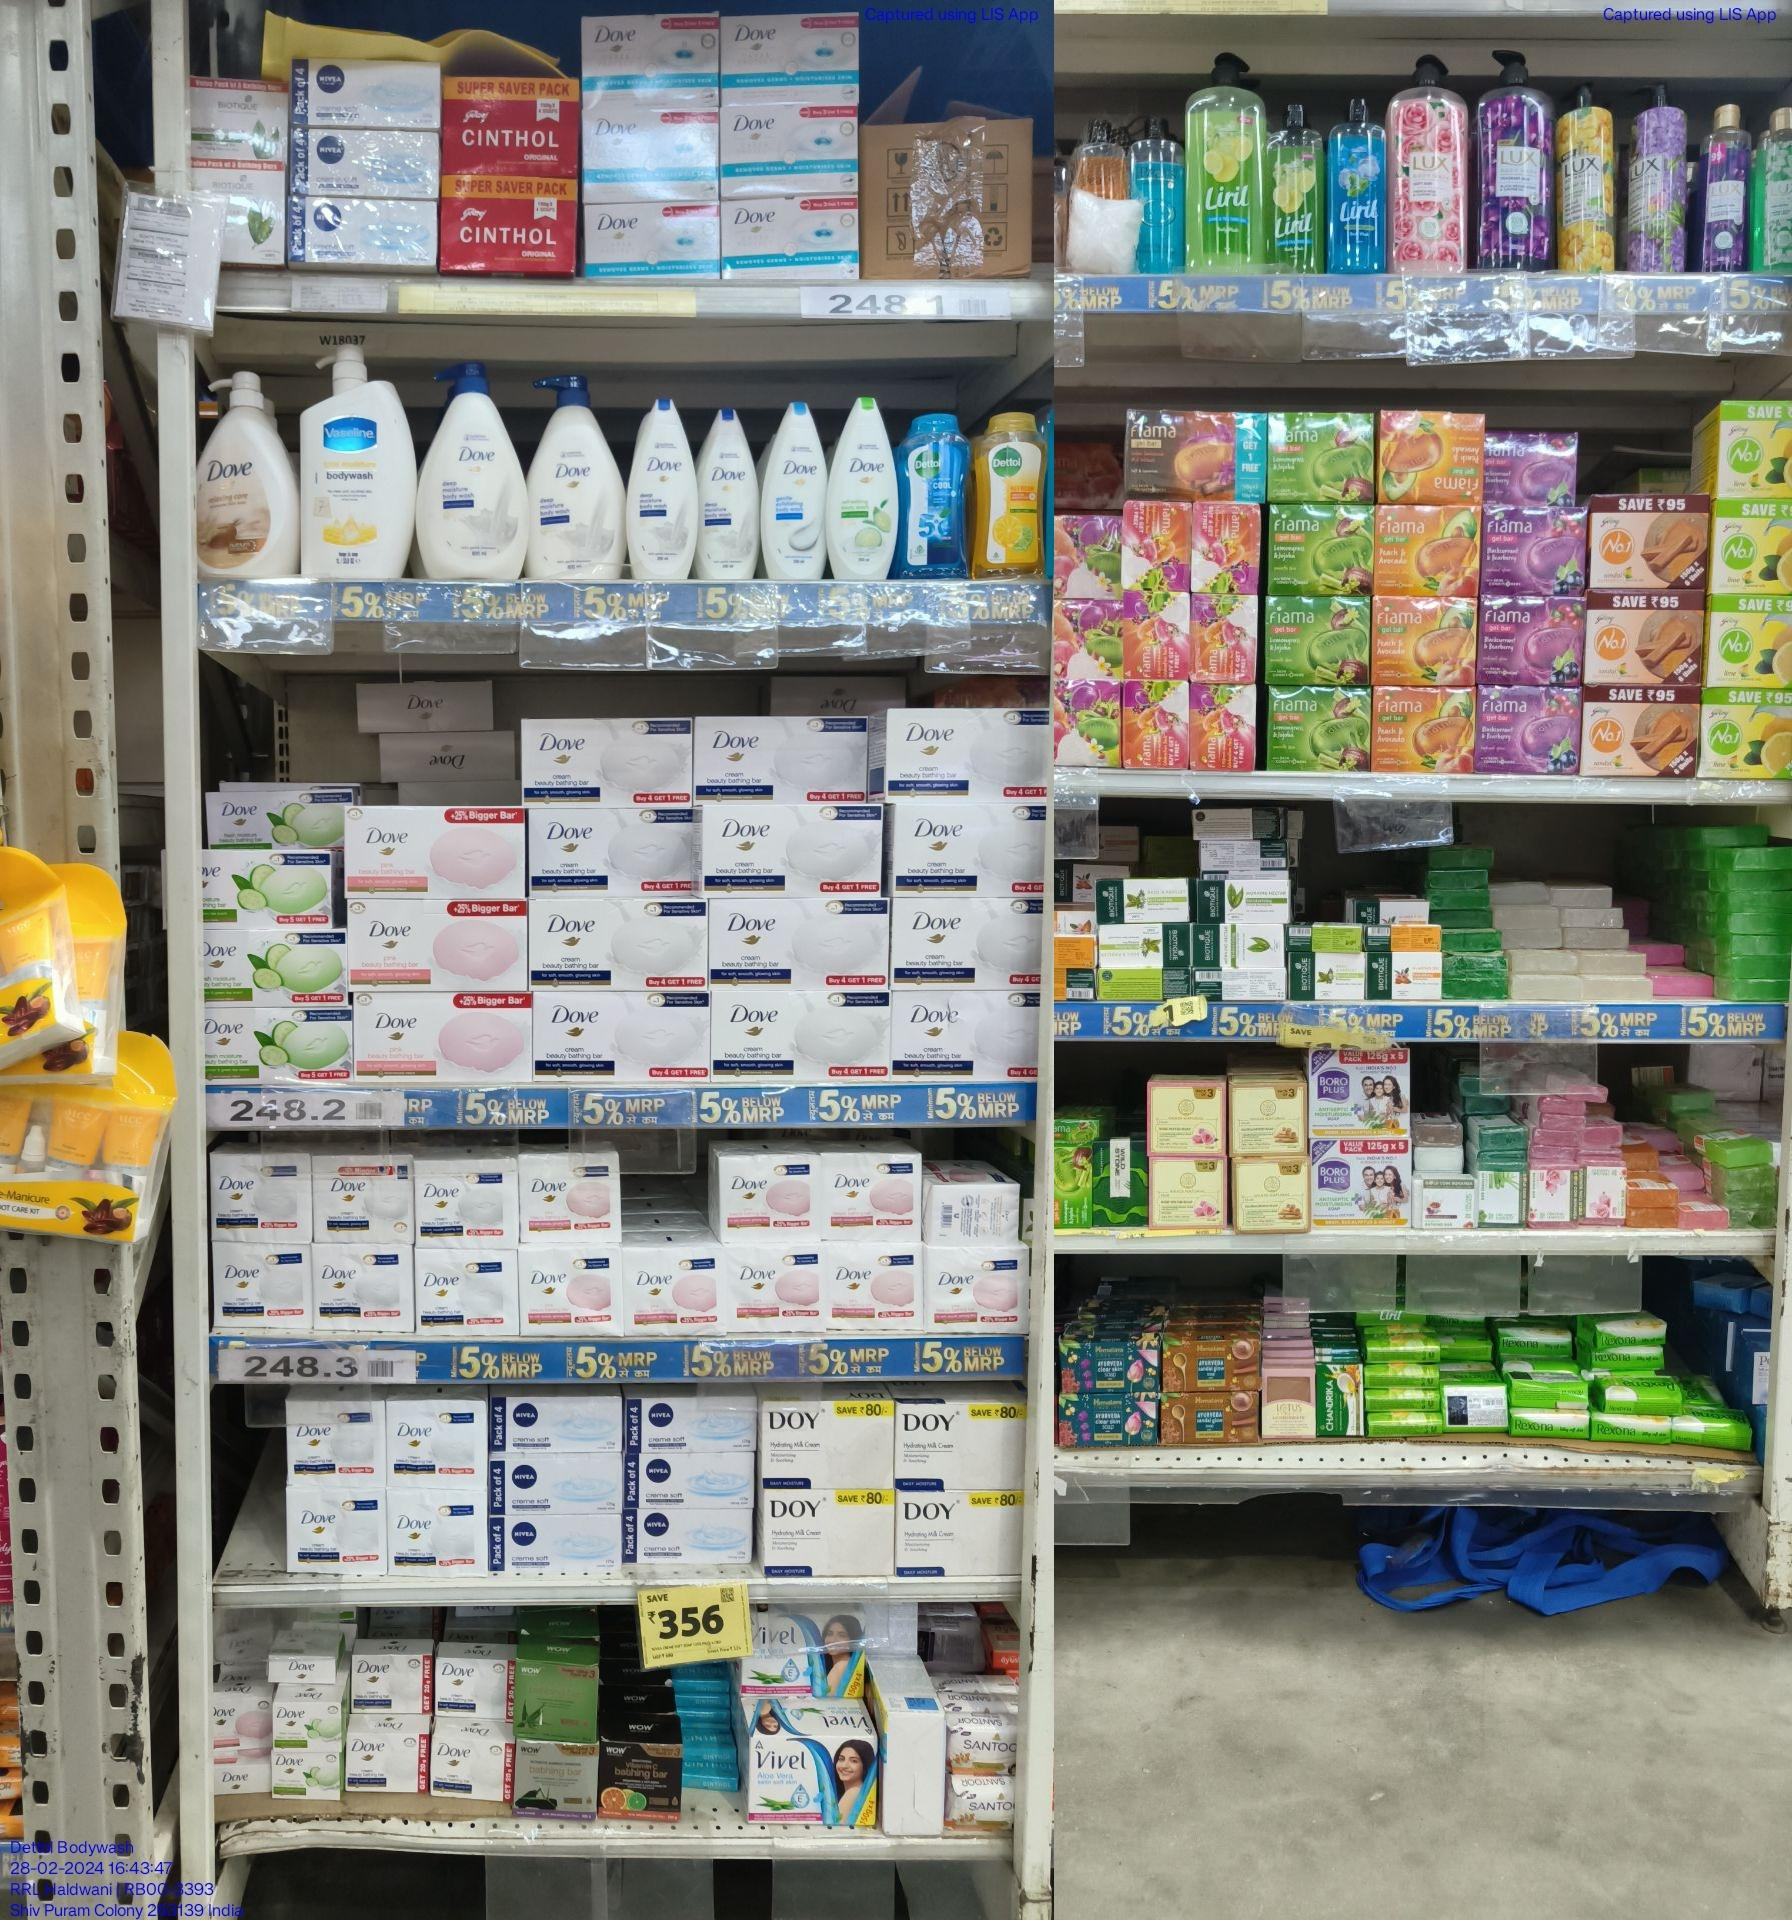Dettol_Bodywash_Cool: (899, 413, 967, 581)
Dettol_Bodywash_Refresh: (977, 404, 1044, 581)
Dove_Deep_Moisture_Body_Wash_250ML: (632, 397, 696, 584), (699, 404, 756, 600)
Dove_Gentle_Exfoliating_Body_Wash_250ML: (765, 403, 829, 578)
Dove_Refreshing_Body_Wash_250ML: (832, 397, 898, 586)
Liril_Cooling_Mint_Body_Wash_250ML: (1327, 94, 1388, 276)
Liril_Lime_and_Tea_Tree_Oil_Body_Wash_250ML: (1267, 104, 1322, 275)
Lux_Black_Orchid_Scent_and_Juniper_Oil_Body_Wash_245ML: (1703, 99, 1748, 273)
Lux_Body_Wash_Skin_Detox_Freesia_Scent_and_Alove_Vera_245ML: (1755, 104, 1792, 276)
